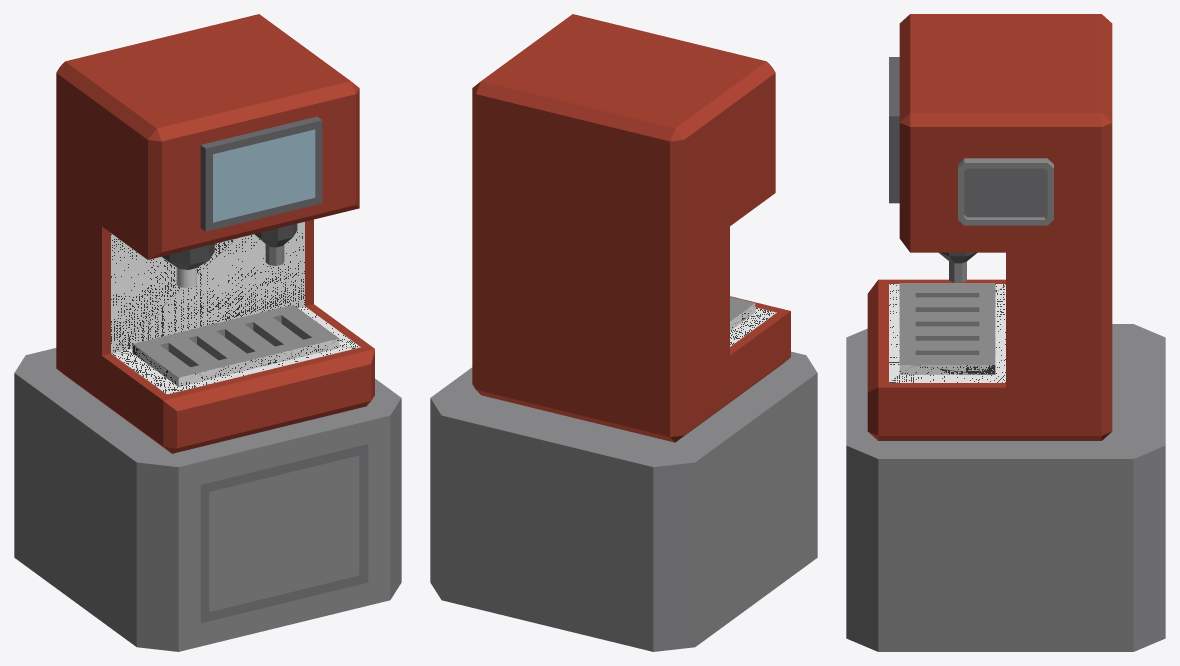
The model's file is cokemachine.fbx.
The picture shows the model from 3 angles, left to right: view 1: azimuth 30°, elevation 25°; view 2: azimuth 150°, elevation 25°; view 3: azimuth 270°, elevation 25°; orthographic projection. The views are drawn at different scales.
Parts seen in each view (by area): view 1: CoffeeMachine03; view 2: CoffeeMachine03; view 3: CoffeeMachine03.
Part boxes in pixels (bbox=[...]): CoffeeMachine03: bbox=[14, 14, 401, 651]; CoffeeMachine03: bbox=[430, 14, 817, 651]; CoffeeMachine03: bbox=[846, 14, 1165, 651].
Size of the model in its own units: 150 by 270 by 150.
